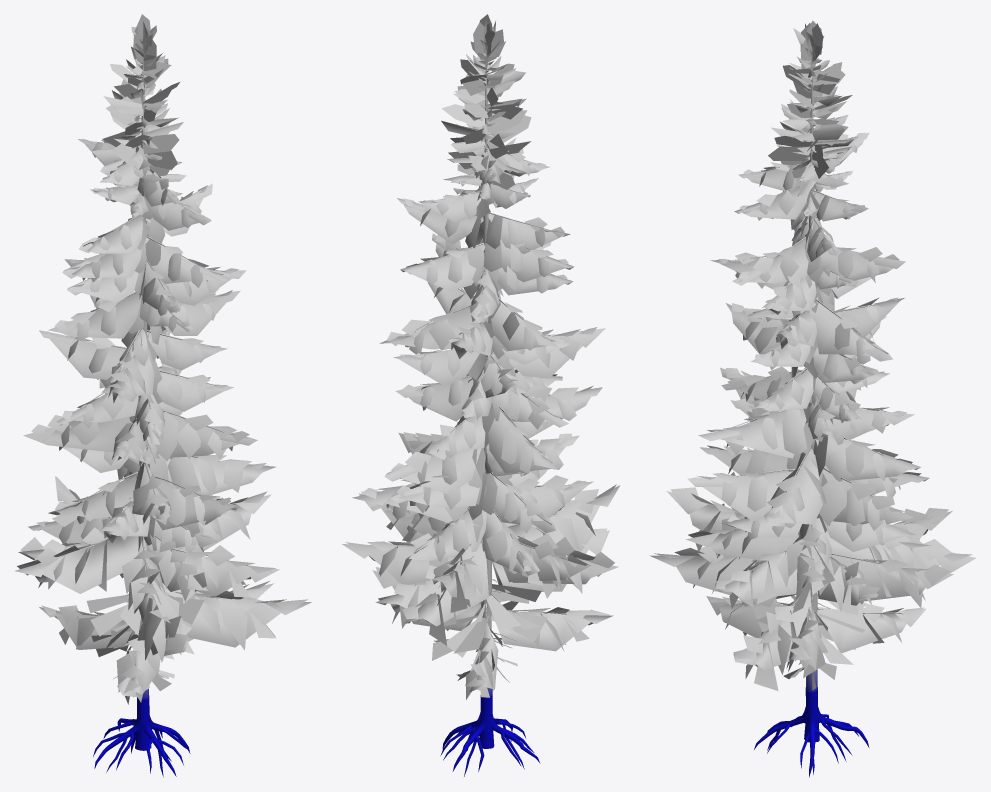
Rendered from Spruce_Tree2_LOD1.fbx.
The picture shows the model from 3 angles, left to right: view 1: azimuth 30°, elevation 25°; view 2: azimuth 150°, elevation 25°; view 3: azimuth 270°, elevation 25°; orthographic projection.
Parts seen in each view (by area): view 1: polySurface2690; view 2: polySurface2690; view 3: polySurface2690.
Boxes of the visible parts, <box> form: polySurface2690: <box>15,14,311,777</box>; polySurface2690: <box>342,14,620,776</box>; polySurface2690: <box>649,20,976,777</box>.
Size of the model in its own units: 850 by 2346 by 932.
